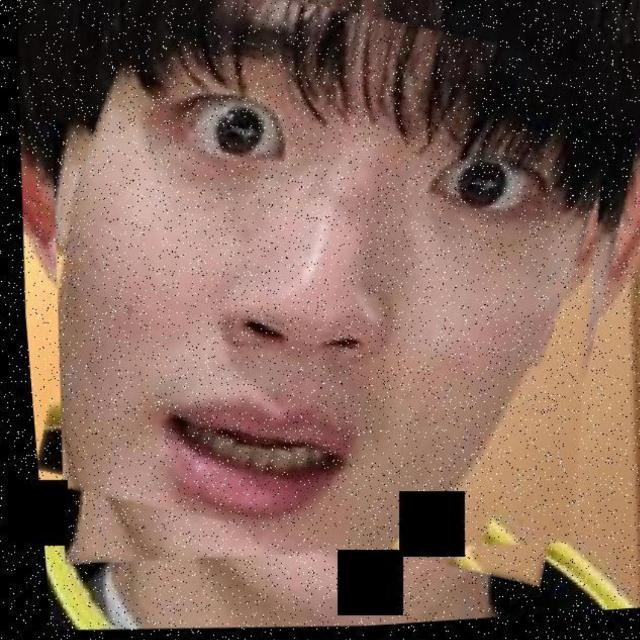Surprised: (85, 35, 545, 555)
